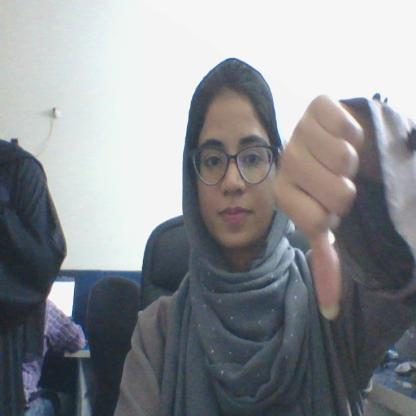thumbs-down: (273, 98, 371, 321)
